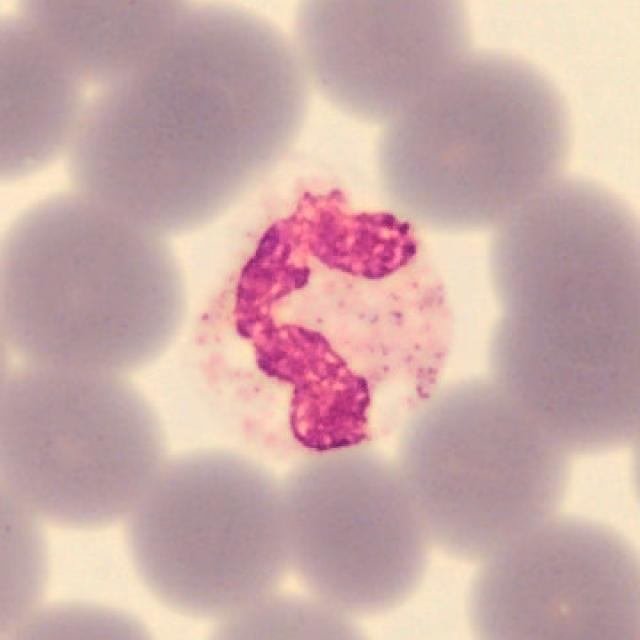Neutrofilo segmentado: (187, 188, 455, 457)
